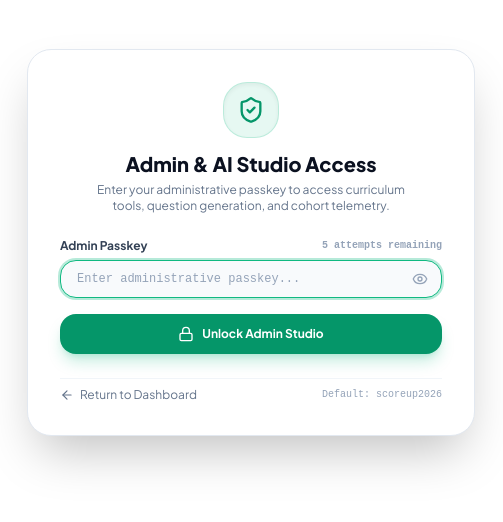
Test case: AdminDashboardView › rejects invalid passkey with error message
Type "invalid-passkey-xyz" into the password field with placeholder "Enter administrative passkey..." at (251, 279), box x1=60 y1=260 x2=442 y2=298
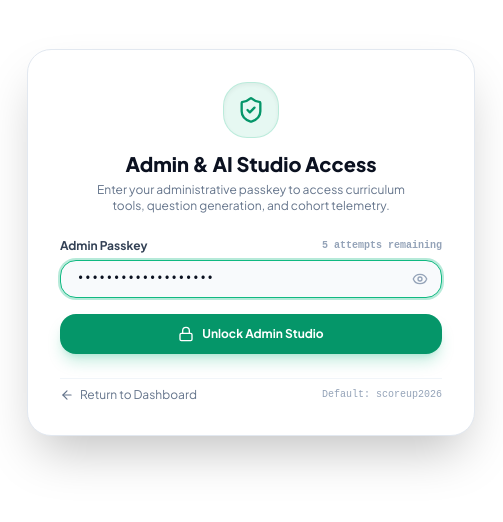
Click the button "Unlock Admin Studio" at (251, 334), box x1=60 y1=314 x2=442 y2=354
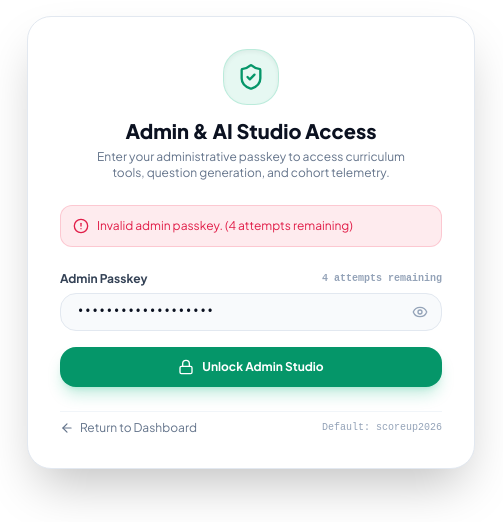
expect the text "Invalid admin passkey. (4 attempts remaining)" is shown: met, box x1=97 y1=218 x2=353 y2=234
